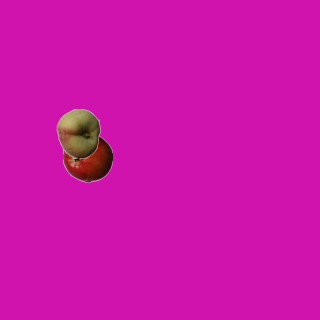Apple Braeburn: (62, 132, 112, 182)
Peach Flat: (53, 108, 103, 158)
